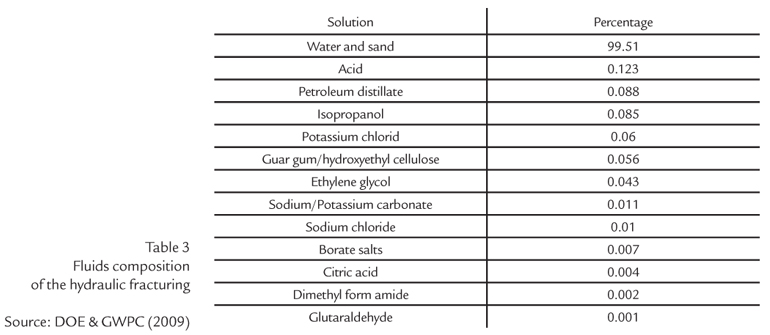fracking table: (2, 3, 769, 335)
